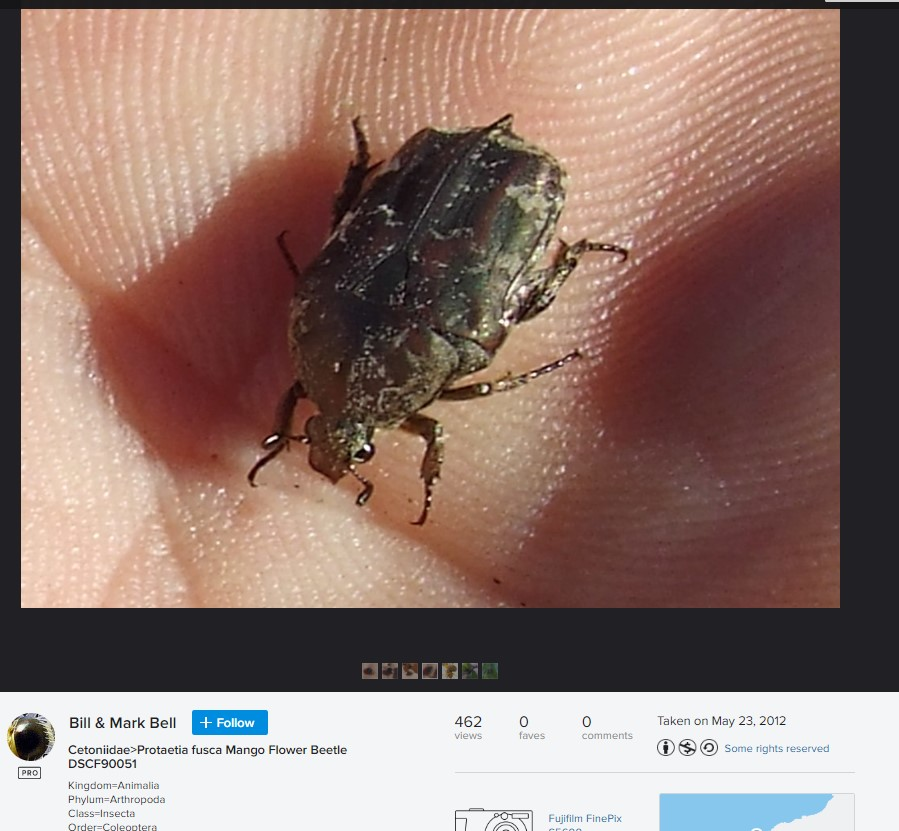Protaetia_fusca: (247, 110, 632, 531)
